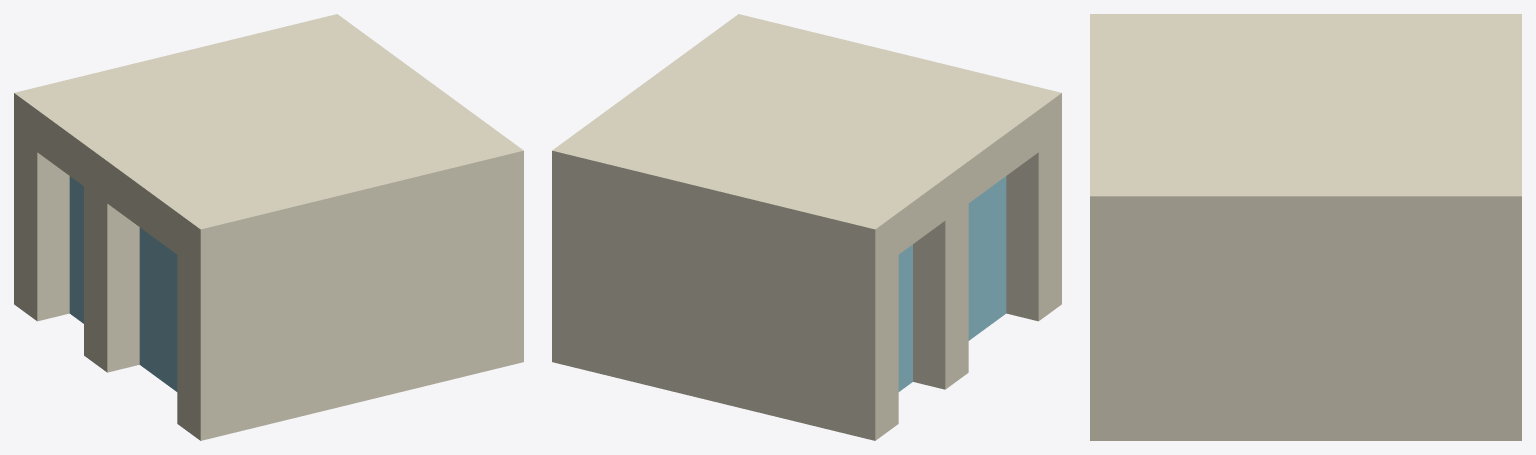
Rendered from modularBuildings_023.fbx.
3 renders of one model, left to right at view 1: azimuth 30°, elevation 25°; view 2: azimuth 150°, elevation 25°; view 3: azimuth 270°, elevation 25°, orthographic. The views are drawn at different scales.
Visible parts, largest first — view 1: Brick.Mesh1 Group1 Model, Glass; view 2: Brick.Mesh1 Group1 Model, Glass; view 3: Brick.Mesh1 Group1 Model.
Part boxes in pixels (<box>): Brick.Mesh1 Group1 Model: <box>14,14,523,440</box>; Glass: <box>69,176,177,391</box>; Brick.Mesh1 Group1 Model: <box>552,14,1061,440</box>; Glass: <box>898,176,1006,391</box>; Brick.Mesh1 Group1 Model: <box>1090,14,1521,440</box>.
Bounding box in the file's own units: 1 × 0.625 × 1.
